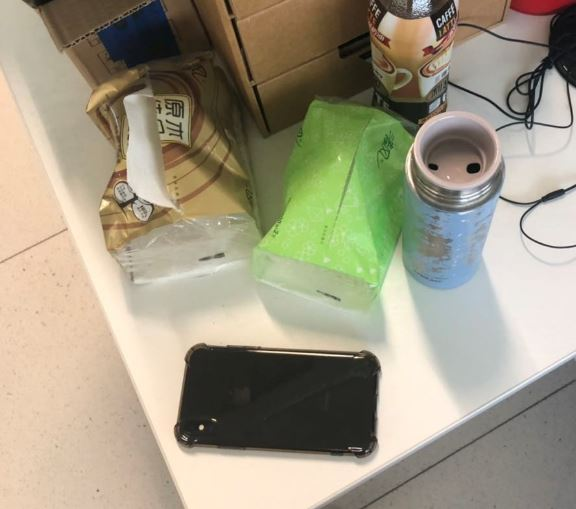mobil: (171, 341, 382, 460)
